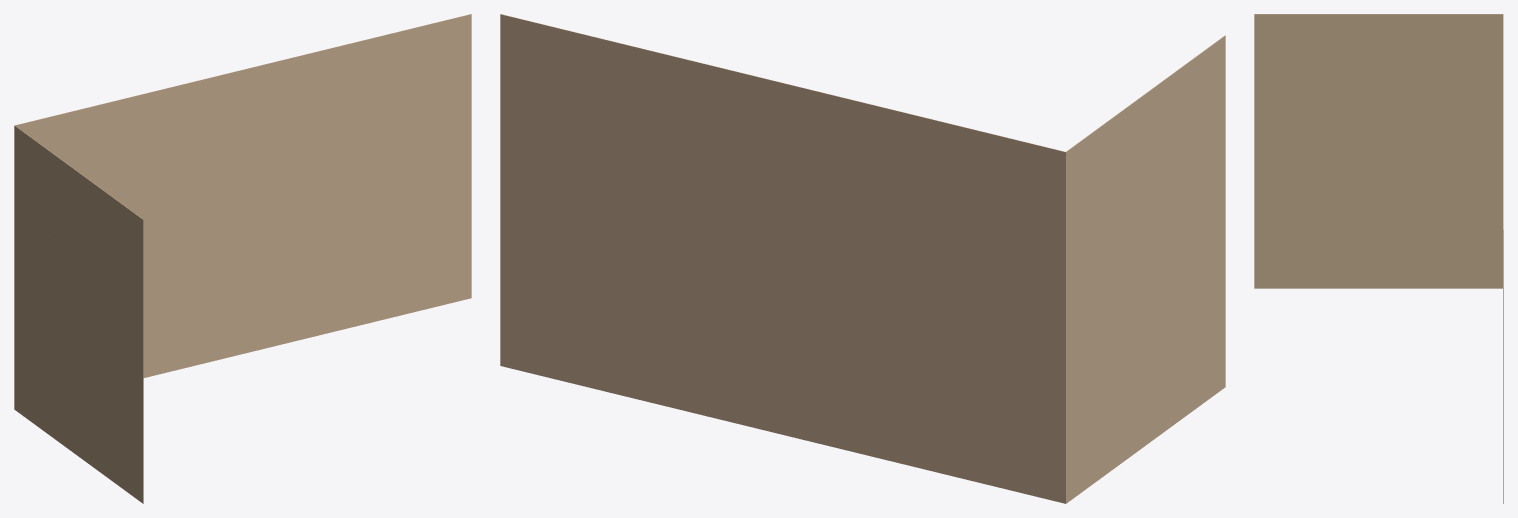
File: mamposteria.glb
The picture shows the model from 3 angles, left to right: view 1: azimuth 30°, elevation 25°; view 2: azimuth 150°, elevation 25°; view 3: azimuth 270°, elevation 25°; orthographic projection. The views are drawn at different scales.
Size of the model in its own units: 5.04 by 2.99 by 2.46.
